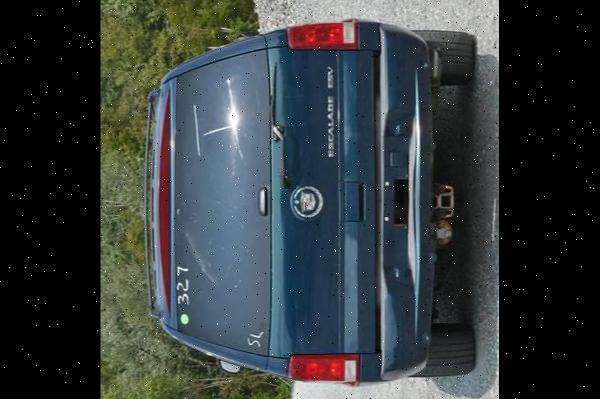Left_Taillight: (286, 349, 357, 384)
Rear_Bumper: (375, 20, 438, 379)
Rear_Windshield: (151, 35, 267, 370)
Right_Taillight: (285, 15, 357, 48)
Tailgate: (262, 20, 379, 382)
